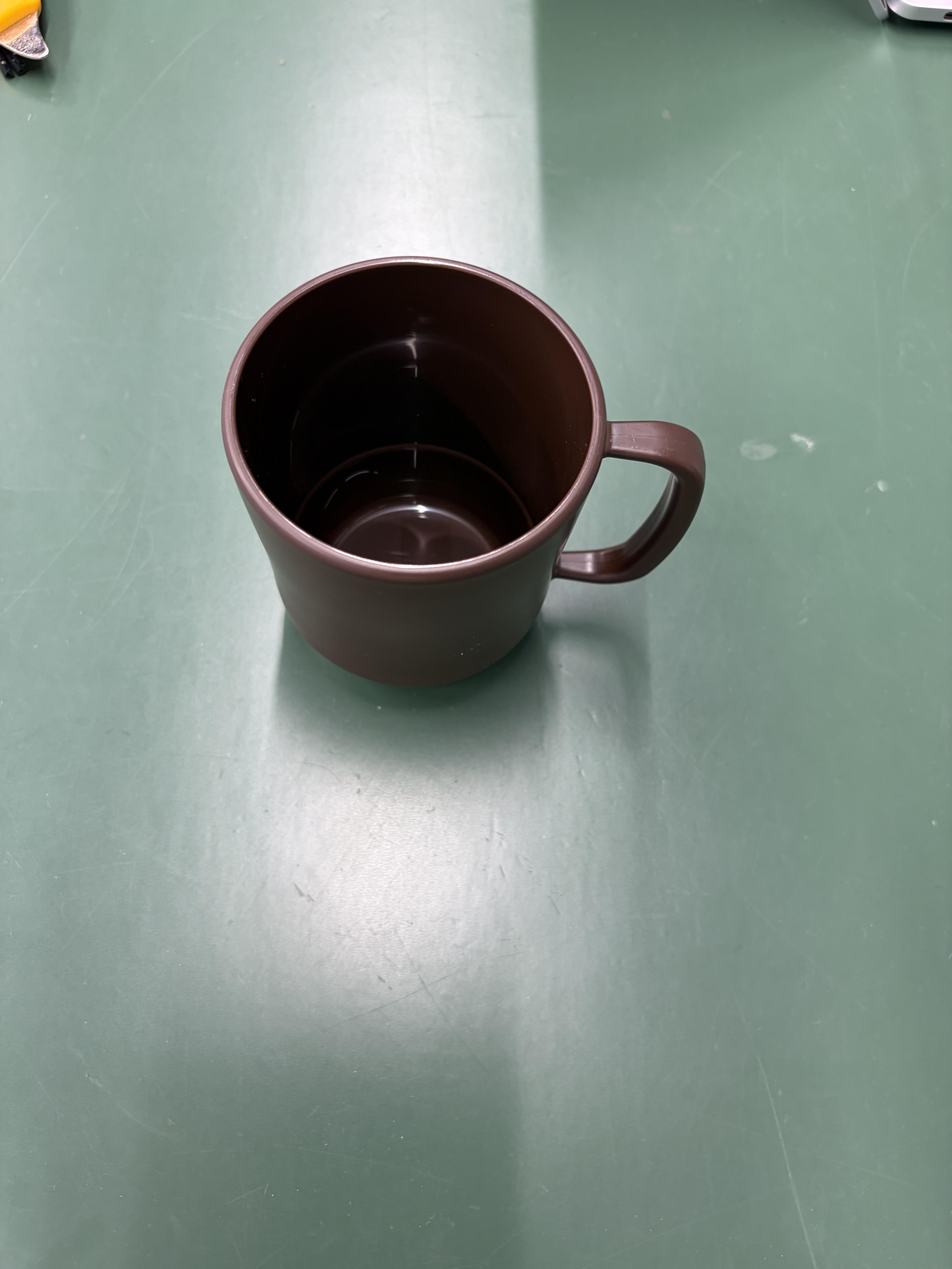mug-real100-3d100: (222, 257, 705, 687)
